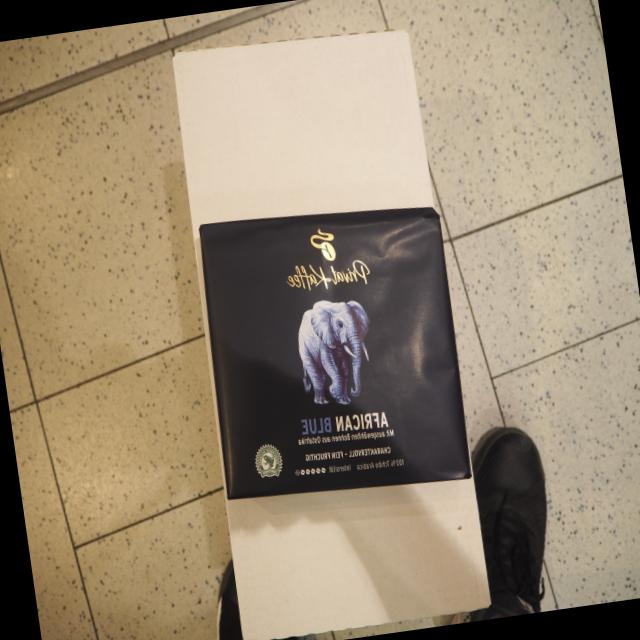AB Gemahlen: (197, 201, 473, 502)
